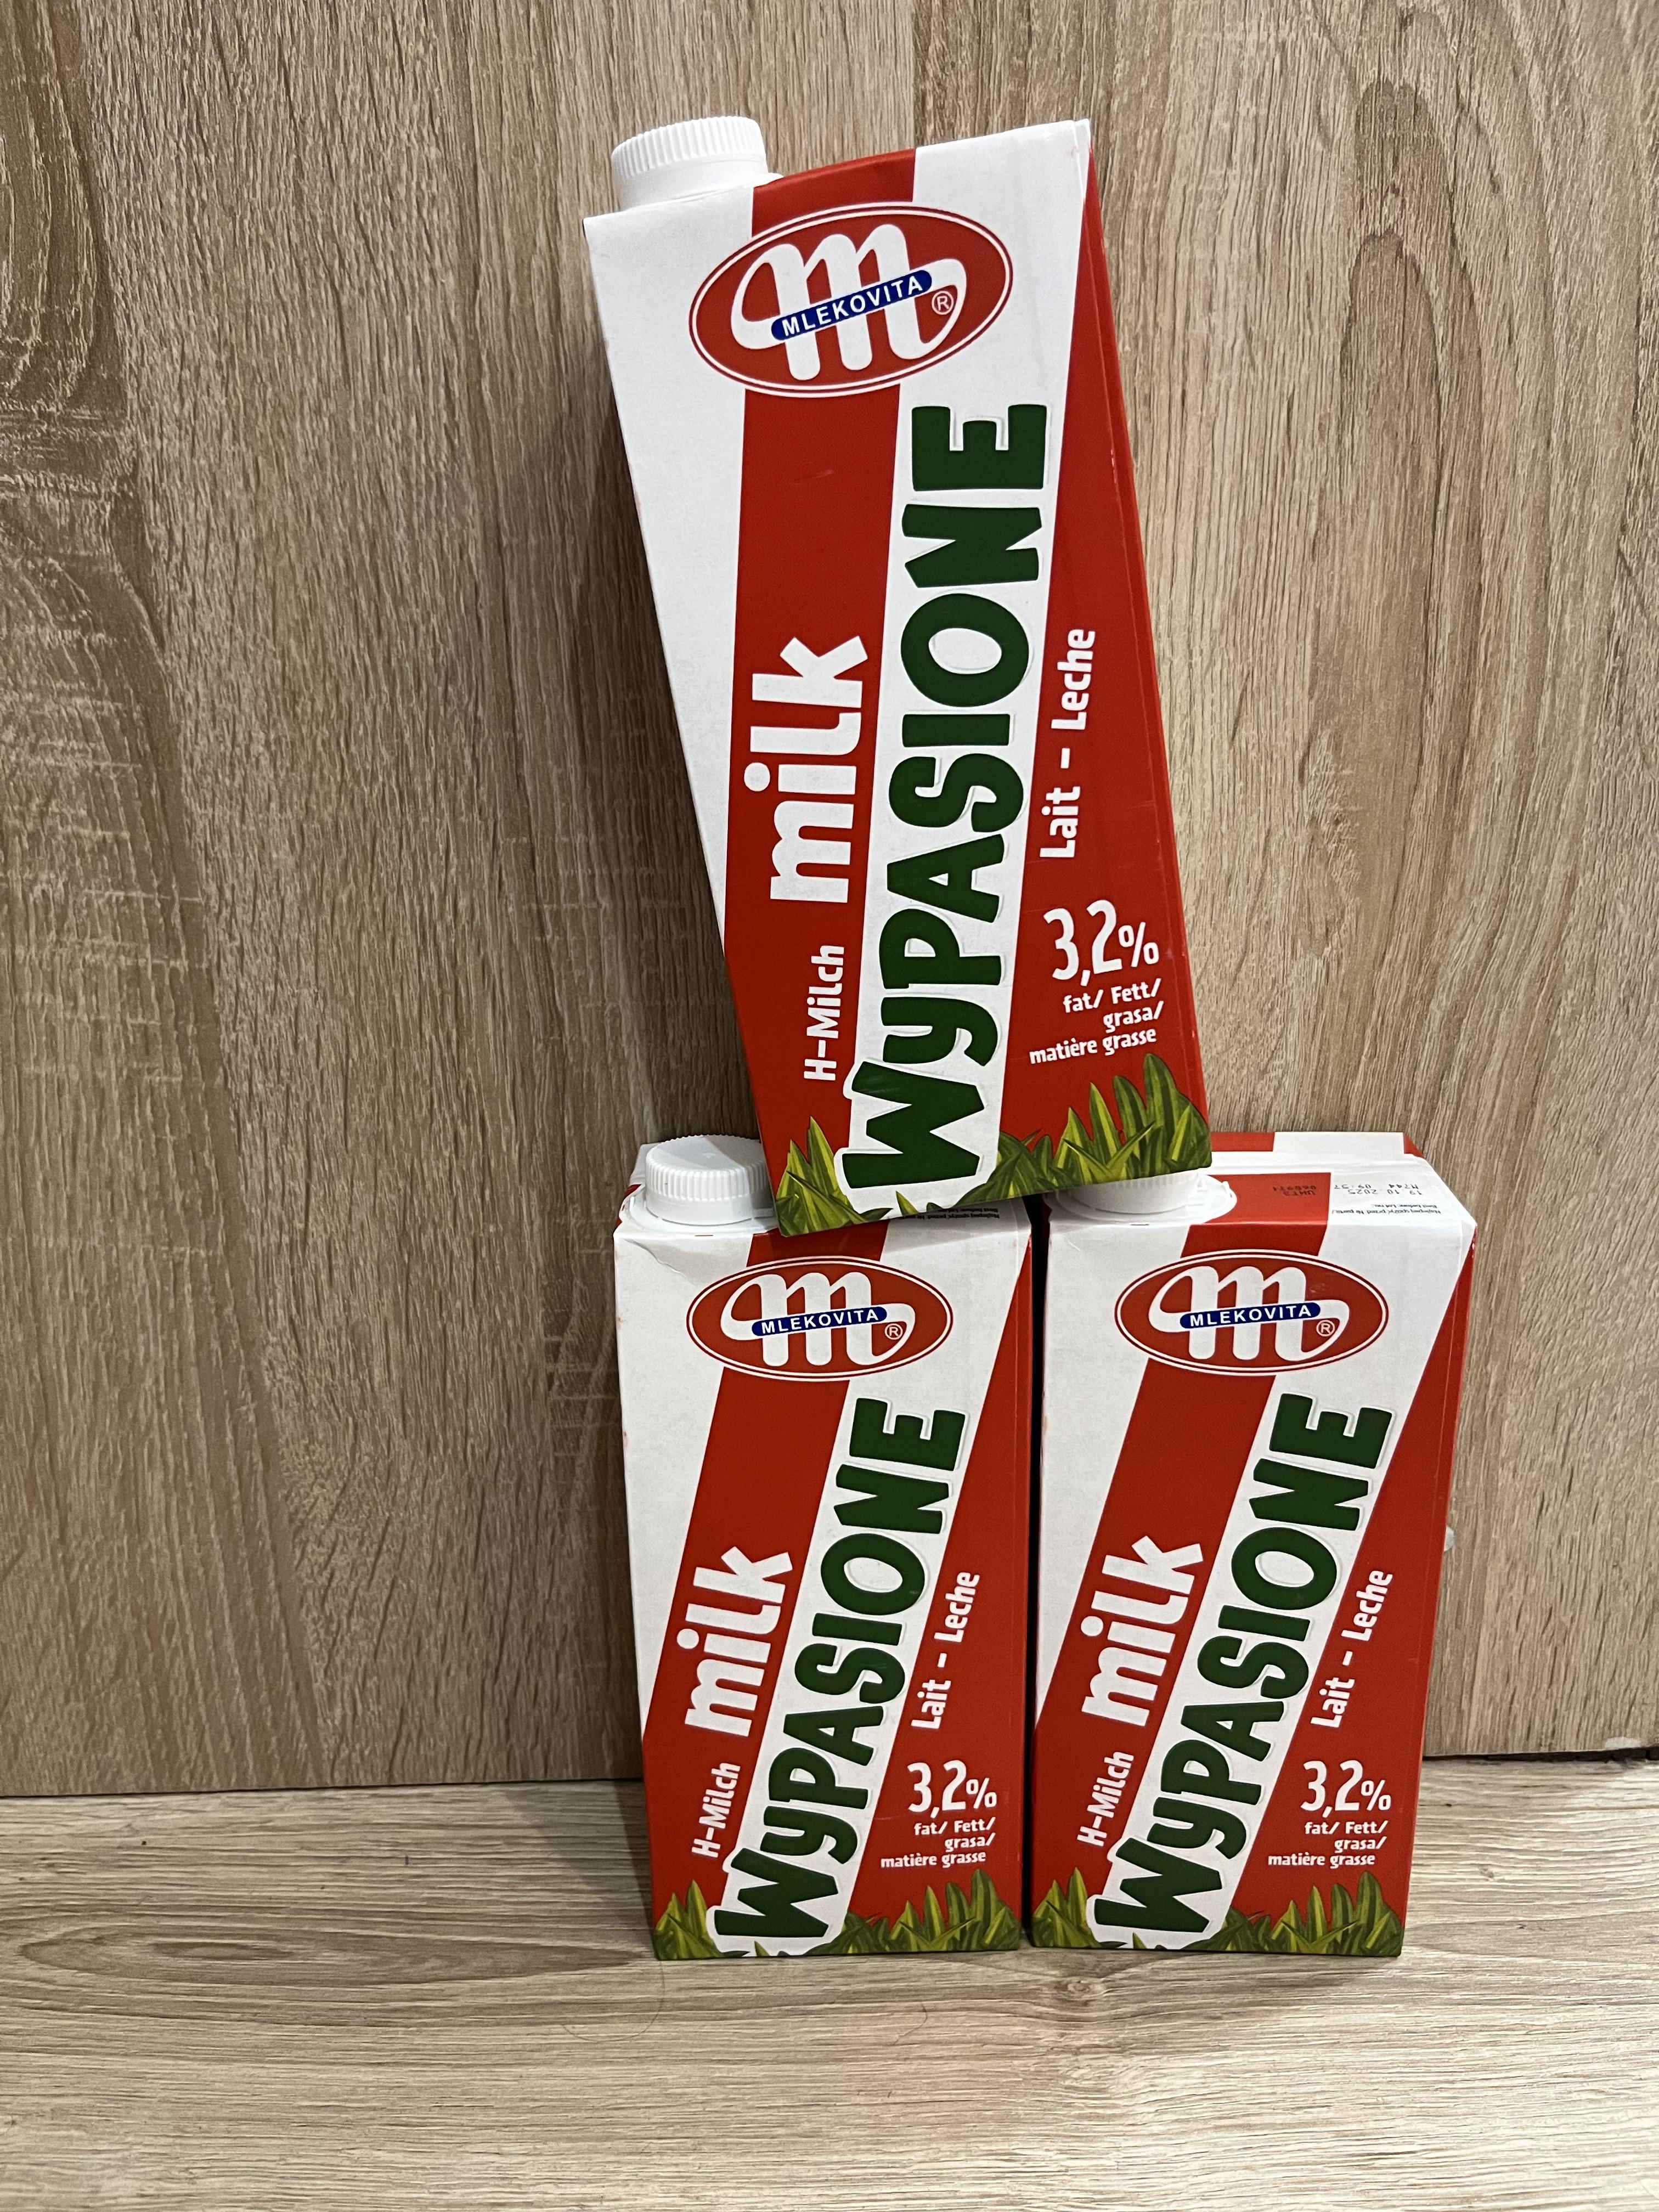Milk: (666, 174, 1150, 1197), (620, 1217, 1039, 1965), (1051, 1207, 1443, 1965)
